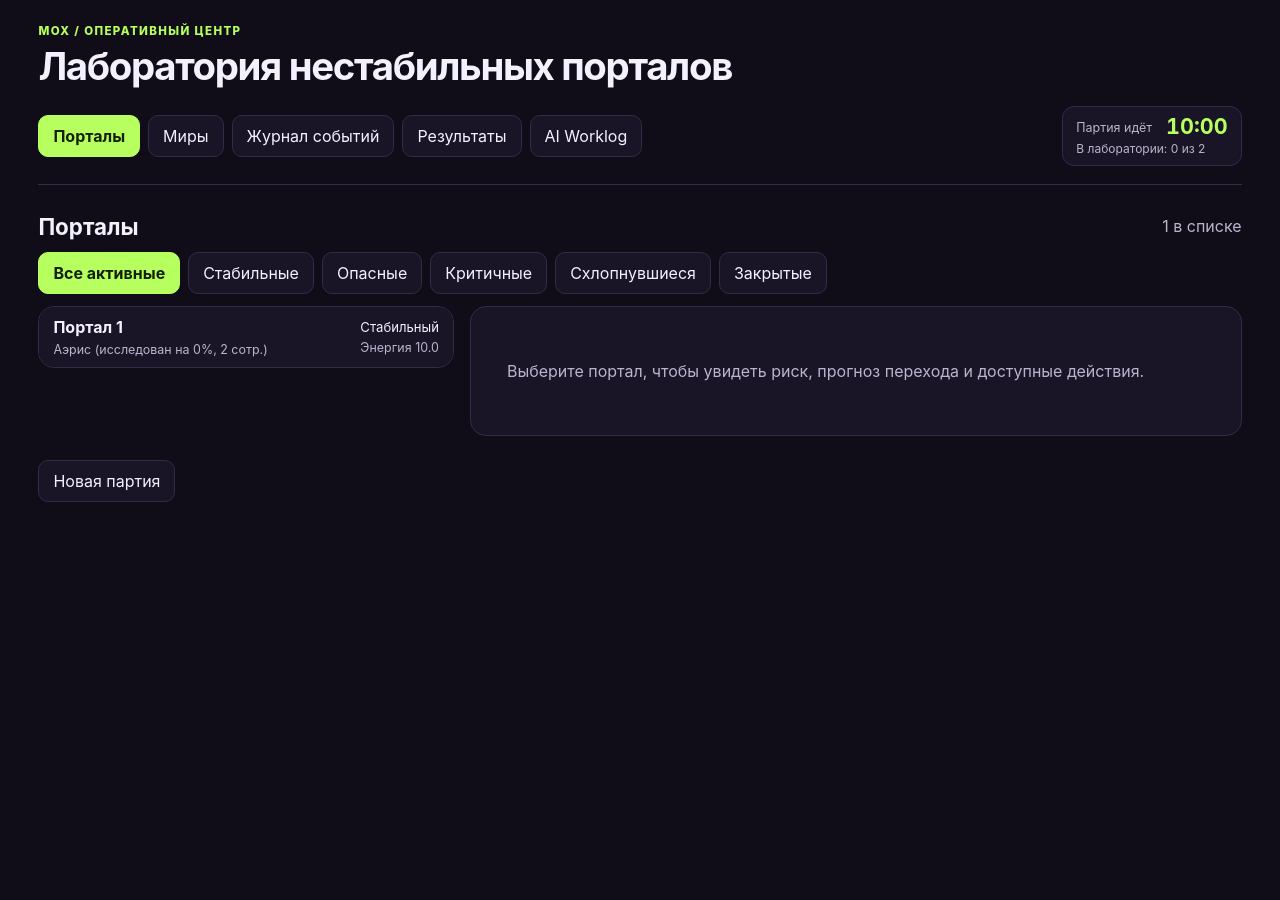
Test: App › предлагает частичный возврат, если энергии на всех недостаточно
Click the button "Портал 1" at (88, 327), box [39,307,453,367]
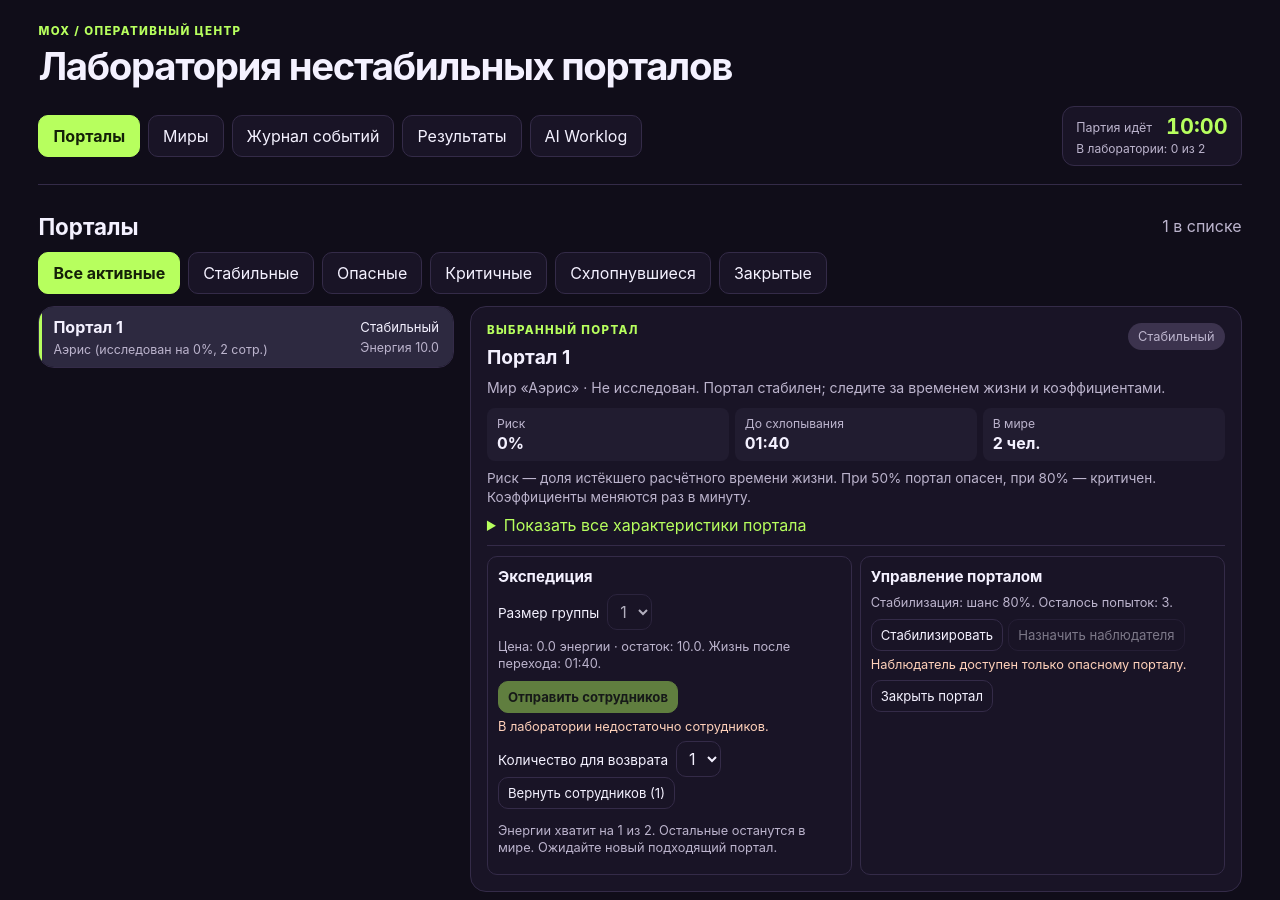
expect the text "Энергии хватит на 1 из 2" is shown: met, box [498,823,806,855]
Click the button "Вернуть сотрудников (1)" at (586, 793), box [498,777,675,809]
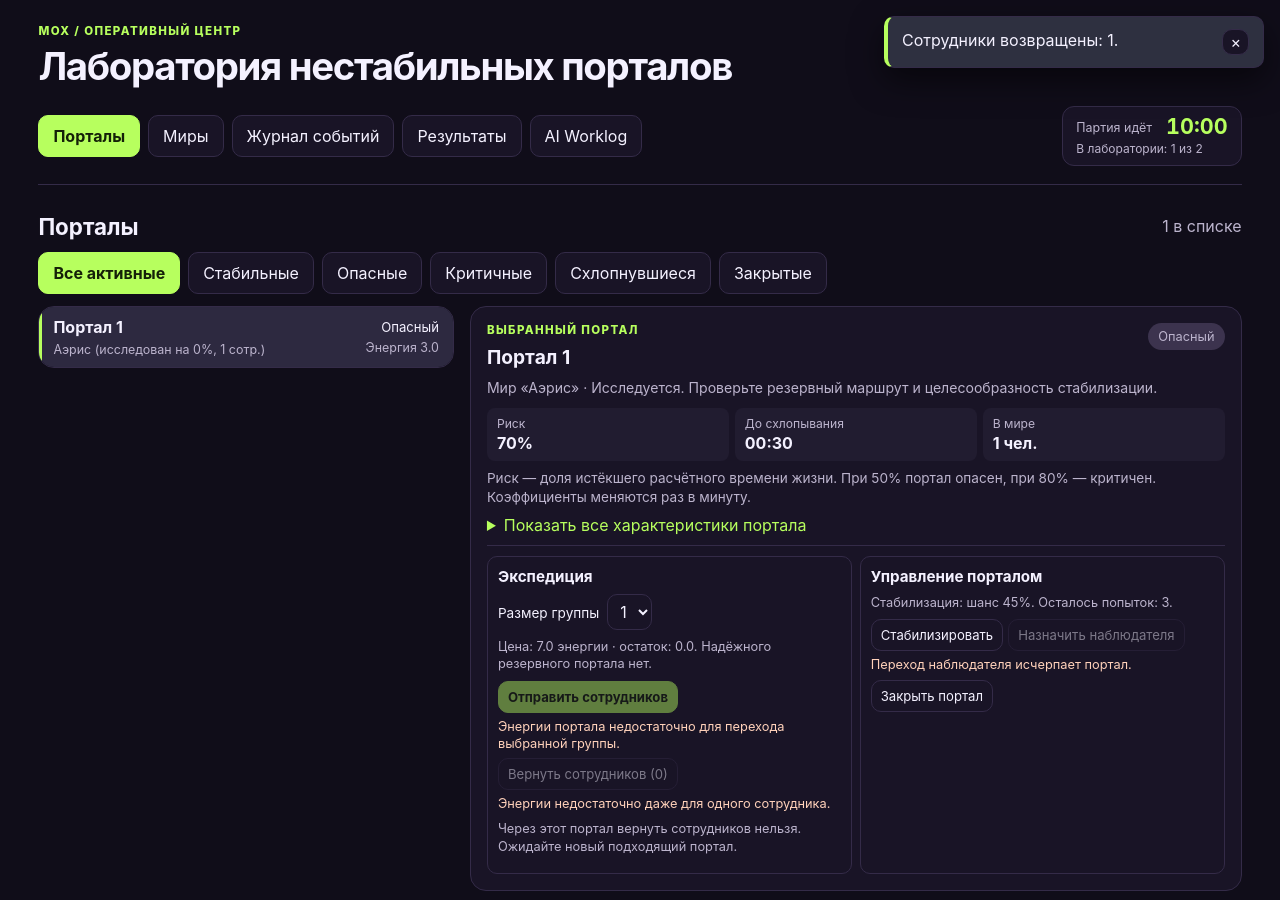
expect the text "В лаборатории: 1 из 2" is shown: met, box [1076,141,1203,156]
